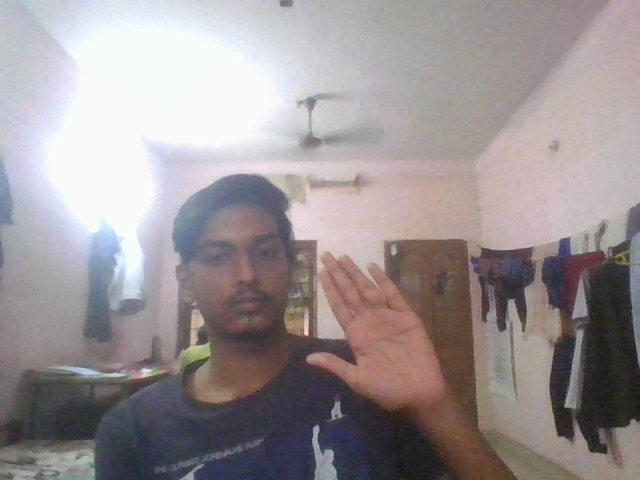hello: (303, 246, 451, 419)
